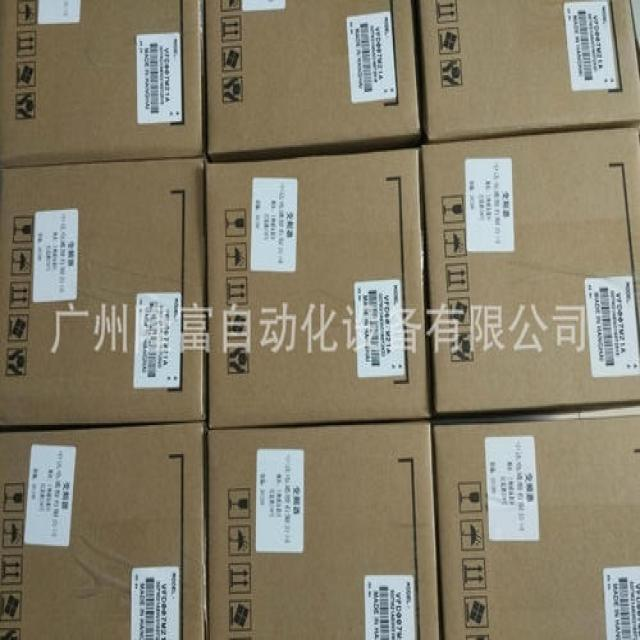box: (423, 125, 639, 415), (208, 152, 431, 427), (0, 157, 205, 428), (207, 421, 438, 638), (433, 408, 638, 638), (0, 425, 204, 638), (206, 0, 424, 158), (0, 1, 205, 166), (416, 1, 639, 140)
